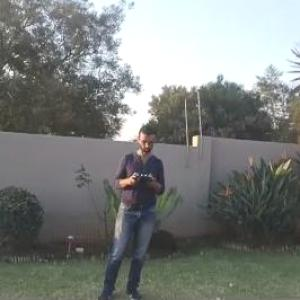follow: (87, 121, 168, 299)
